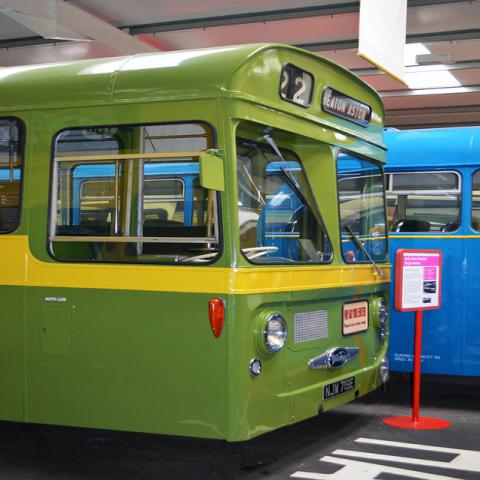bus: (0, 44, 396, 442), (384, 129, 479, 383)
